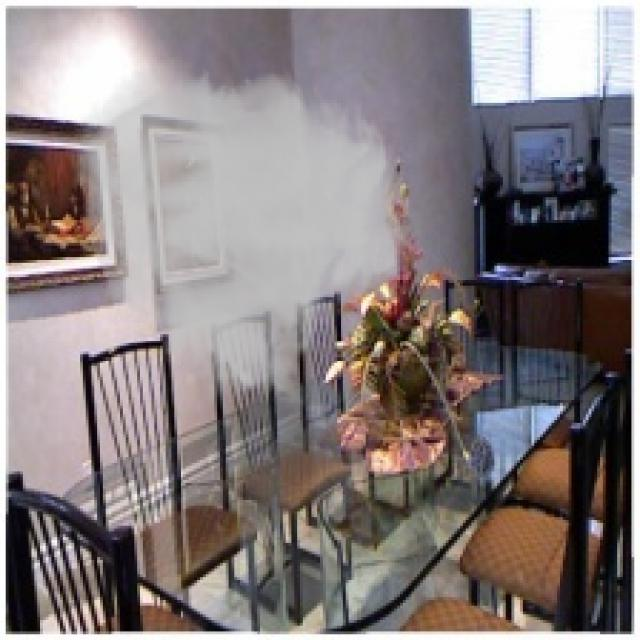smoke: (69, 54, 414, 414)
